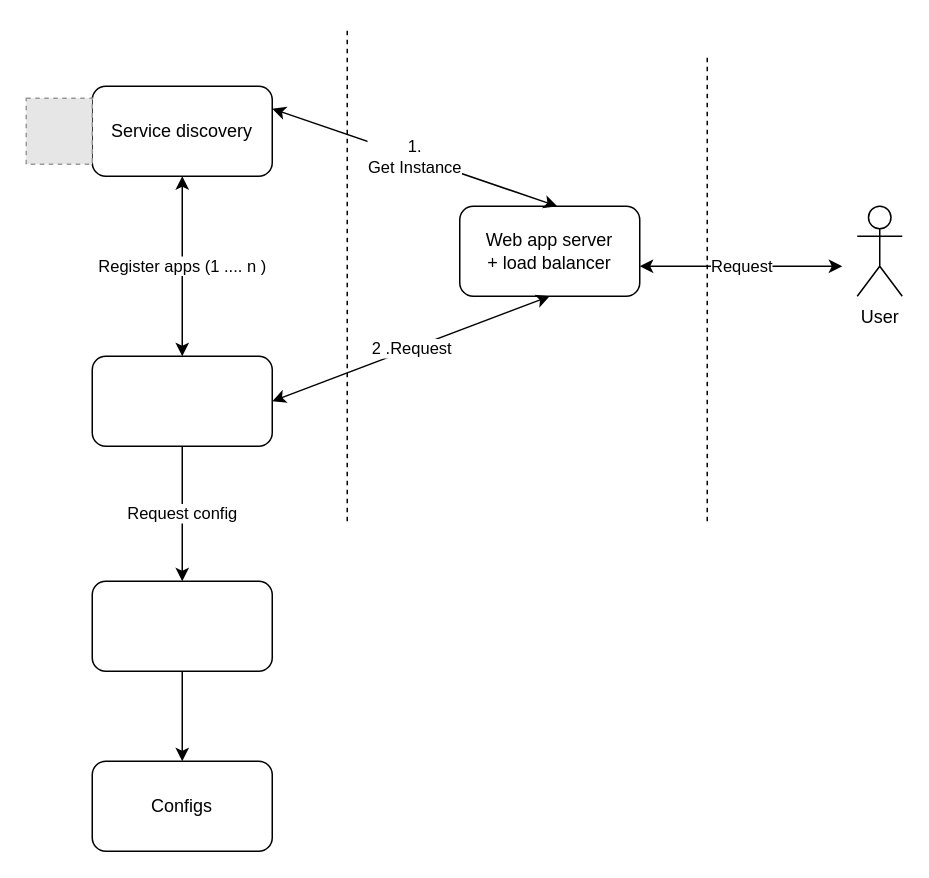
This 929x878 diagram has some shape labels left out. Grey dashed boxes stand in for pictures. Each missing label, with the centre of its shape:
"Config server" belongs at point 181,625.
"Server Apps" belongs at point 181,400.
